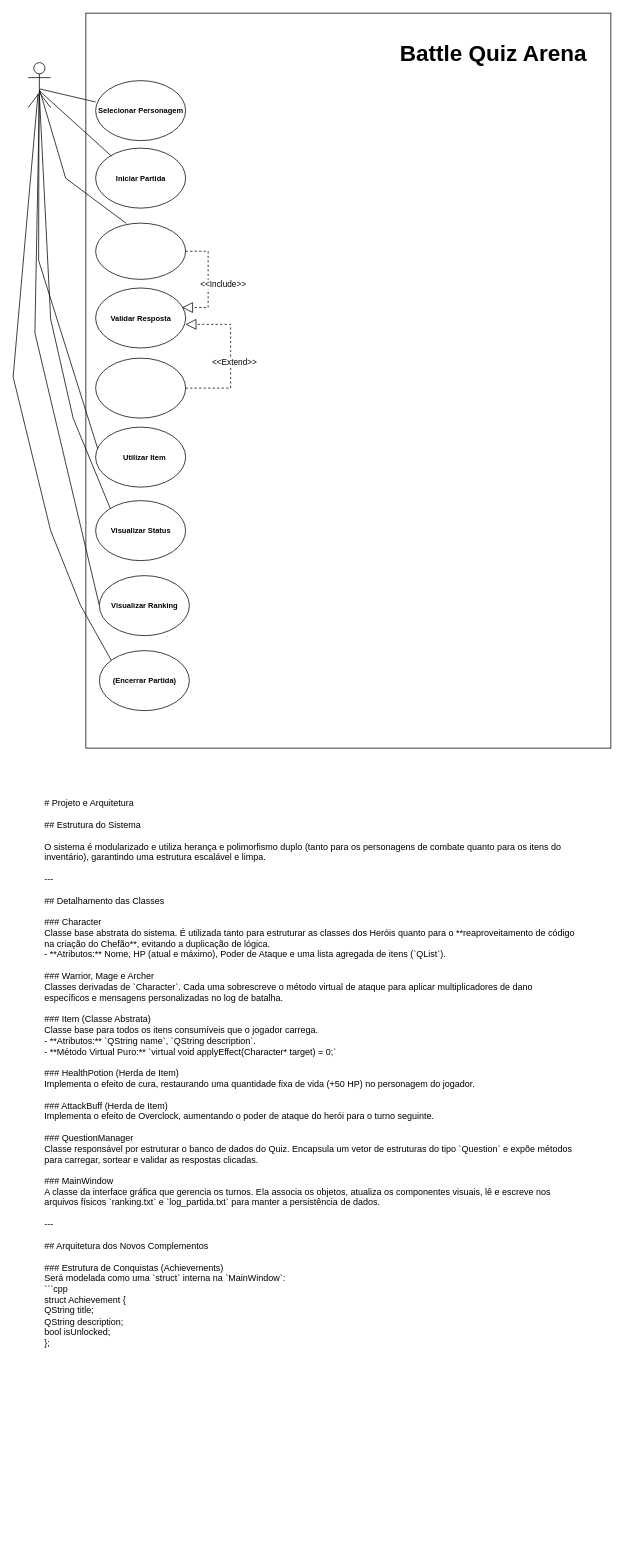
Some shapes in this 624 by 1556 pixel diagram are drawn without their labels. Here are the shapes that lost their labels. From the top down, the centre of each, then its label:
At (39,85): "Jogador".
At (140,250): "Responder Pergunta".
At (140,387): "Atacar Inimigo".
